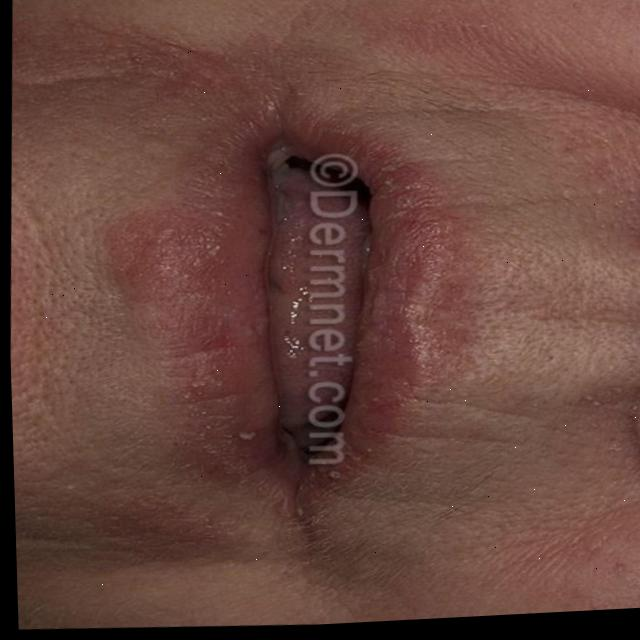Eczema: (145, 158, 238, 416)
